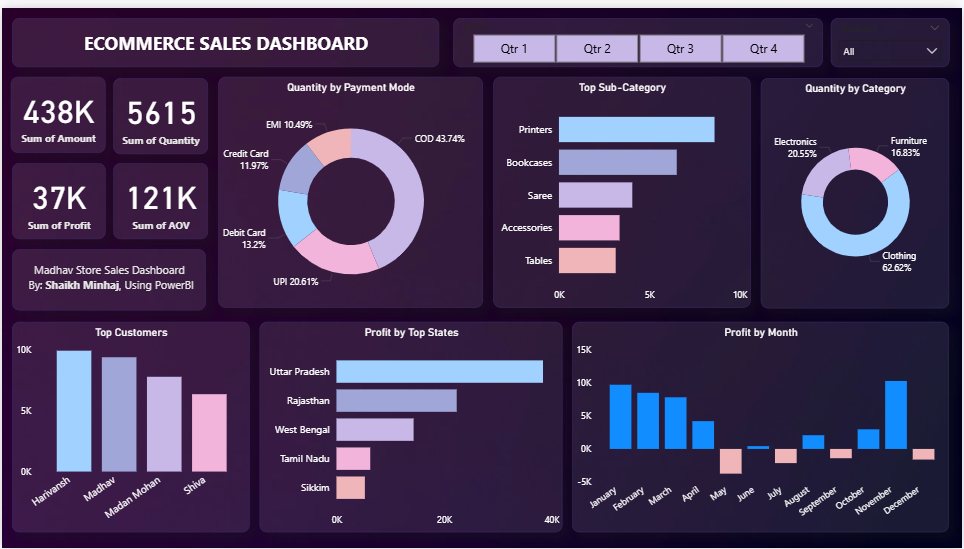

The page's visual inventory and layout, read from the dashboard file:
{"tool":"powerbi","page":{"name":"Page 1","canvas":[1280,720],"ordinal":0},"visuals":[{"type":"textbox","box":[12.5,12.5,569.4,65.3],"z":0},{"type":"columnChart","title":"Profit by Month","fields":{"Category":["Orders.Order Date.Variation.Date Hierarchy.Month"],"Y":["Sum(Details.Profit)"]},"box":[759.7,418.1,502.8,280.6],"z":1000},{"type":"barChart","title":"Top Sub-Category","fields":{"Category":["Details.Sub-Category"],"Y":["Sum(Details.Profit)"]},"box":[655.6,91.7,343.1,308.3],"z":2000},{"type":"donutChart","title":"Quantity by Category","fields":{"Category":["Details.Category"],"Y":["Sum(Details.Quantity)"]},"box":[1011.1,93.1,251.4,306.9],"z":3000},{"type":"donutChart","title":"Quantity by Payment Mode","fields":{"Category":["Details.PaymentMode"],"Y":["Sum(Details.Quantity)"]},"box":[287.5,91.7,352.8,308.3],"z":4000},{"type":"card","fields":{"Values":["Sum(Details.Average Order Value)"]},"box":[148.6,206.9,126.4,101.4],"z":5000},{"type":"card","fields":{"Values":["Sum(Details.Quantity)"]},"box":[148.6,93.1,126.4,101.4],"z":6000},{"type":"card","fields":{"Values":["Sum(Details.Profit)"]},"box":[12.5,206.9,125,101.4],"z":7000},{"type":"card","fields":{"Values":["Sum(Details.Amount)"]},"box":[11.1,91.7,126.4,101.4],"z":8000},{"type":"barChart","title":"Profit by Top States","fields":{"Category":["Orders.State"],"Y":["Sum(Details.Amount)"]},"box":[343.1,418.1,404.2,280.6],"z":9000},{"type":"columnChart","title":"Top Customers","fields":{"Category":["Orders.CustomerName"],"Y":["Sum(Details.Amount)"]},"box":[12.5,418.1,316.7,280.6],"z":10000},{"type":"textbox","box":[12.5,322.2,258.3,81.9],"z":11000},{"type":"slicer","fields":{"Values":["Orders.Order Date.Variation.Date Hierarchy.Quarter"]},"box":[601.4,12.5,493.1,65.3],"z":12000},{"type":"slicer","fields":{"Values":["Orders.Order Date.Variation.Date Hierarchy.Quarter"]},"box":[1104.2,12.5,158.3,65.3],"z":13000}]}

Visuals, with their boxes in screenshot pixels (x1, y1, x2, y2), scaled from the page's 1280x720 canvas onto the 964x549 screenshot:
textbox: bbox=(9, 10, 438, 59)
"Profit by Month" columnChart: bbox=(572, 319, 951, 533)
"Top Sub-Category" barChart: bbox=(494, 70, 752, 305)
"Quantity by Category" donutChart: bbox=(761, 71, 951, 305)
"Quantity by Payment Mode" donutChart: bbox=(217, 70, 482, 305)
card - Sum(Details.Average Order Value): bbox=(112, 158, 207, 235)
card - Sum(Details.Quantity): bbox=(112, 71, 207, 148)
card - Sum(Details.Profit): bbox=(9, 158, 104, 235)
card - Sum(Details.Amount): bbox=(8, 70, 104, 147)
"Profit by Top States" barChart: bbox=(258, 319, 563, 533)
"Top Customers" columnChart: bbox=(9, 319, 248, 533)
textbox: bbox=(9, 246, 204, 308)
slicer - Orders.Order Date.Variation.Date Hierarchy.Quarter: bbox=(453, 10, 824, 59)
slicer - Orders.Order Date.Variation.Date Hierarchy.Quarter: bbox=(832, 10, 951, 59)
